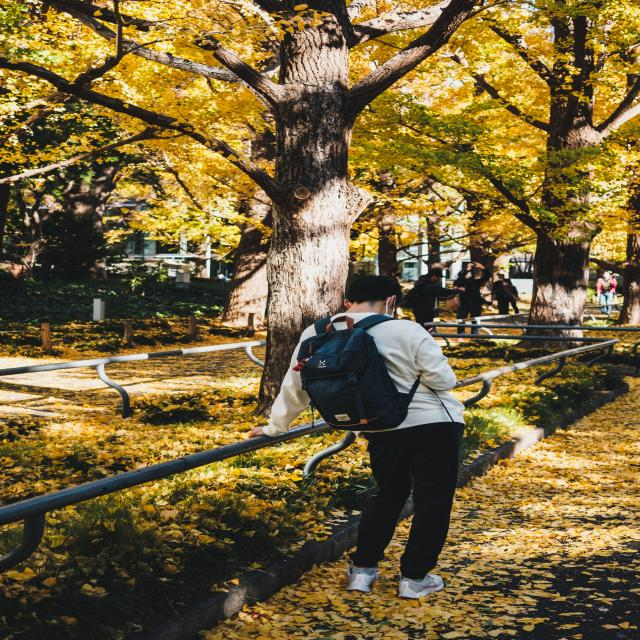backpack: (296, 320, 422, 436)
